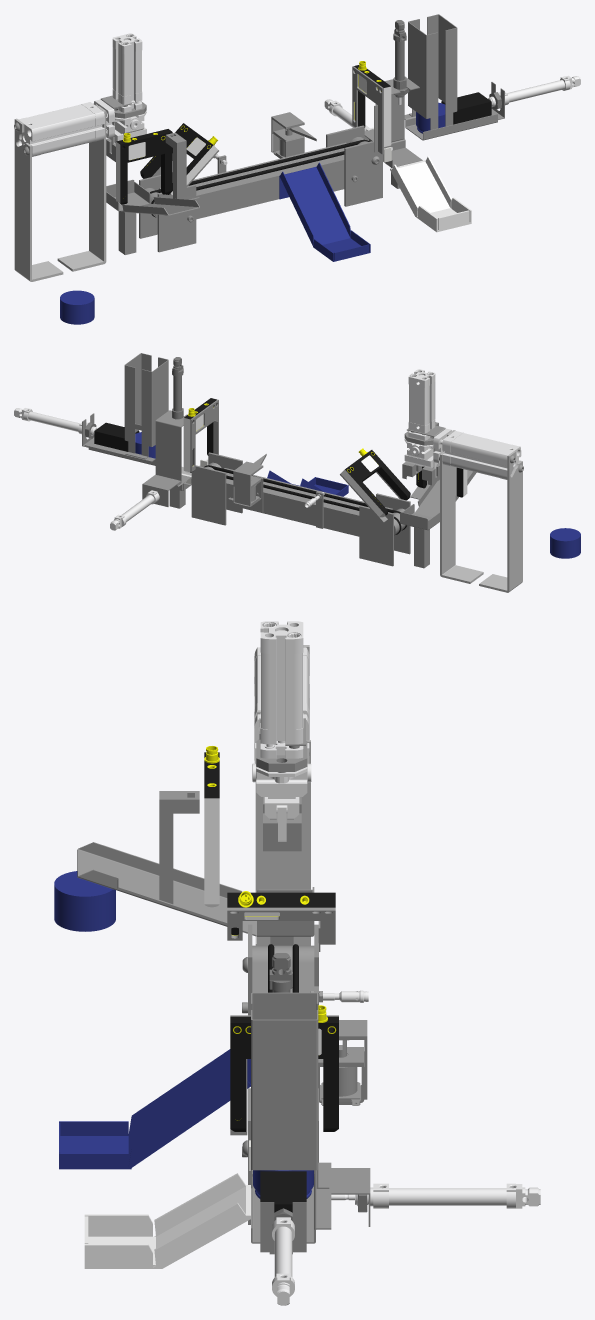
File: MEC-Lab Anlage v37.gltf
3 views of the same model, one above another, from view 1: azimuth 30°, elevation 25°; view 2: azimuth 150°, elevation 25°; view 3: azimuth 270°, elevation 25° (orthographic). The views are drawn at different scales.
Visible parts, largest first — view 1: Seitenteile:1, Magazin:1, Auswurf:1, Mittelstück:1, Rampe (1):1, 2_PART_537125_ADNGF_20_60_P_A____KS__in_ASM_554228_ADNGF_20_, Halter links:1, Halter links:2, 553563_SOOF-P-FL-ST-C50-P v3 (1):1, 553563_SOOF-P-FL-ST-C50-P v3 (2):1, 2_PART_537123_ADNGF_12_40_P_A____KS__in_ASM_554211_ADNGF_12_, 553563_SOOF-P-FL-ST-C50-P v3 (1):2 (+14 smaller); view 2: Seitenteile:1, Magazin:1, Mittelstück:1, 2_PART_537125_ADNGF_20_60_P_A____KS__in_ASM_554228_ADNGF_20_, Halter links:1, Halter links:2, 553563_SOOF-P-FL-ST-C50-P v3 (1):2, 553563_SOOF-P-FL-ST-C50-P v3 (1):1, Stempelhalter:1, 2_PART_537123_ADNGF_12_40_P_A____KS__in_ASM_554211_ADNGF_12_, 70155K571:1, 3_PART_19186_DSNU_10_50_P____A___00__0_KS__in_ASM_19186_DSNU (×2) (+12 smaller); view 3: Magazin:1, Auswurf:1, Rampe (1):1, Rampe:1, 2_PART_537123_ADNGF_12_40_P_A____KS__in_ASM_554211_ADNGF_12_, 3_PART_19186_DSNU_10_50_P____A___00__0_KS__in_ASM_19186_DSNU (×2), 553563_SOOF-P-FL-ST-C50-P v3 (1):1, 553563_SOOF-P-FL-ST-C50-P v3 (1):2, Halter links:2, MagazinRampe:1, Test Werkstück:1, 553563_SOOF-P-FL-ST-C50-P v3 (2):1 (+11 smaller).
Part boxes in pixels (box(x1,y1,x2,y2)): Seitenteile:1: box(139, 125, 382, 252); Magazin:1: box(408, 14, 457, 129); Auswurf:1: box(279, 162, 370, 261); Mittelstück:1: box(159, 142, 350, 219); Rampe (1):1: box(390, 156, 471, 232); 2_PART_537125_ADNGF_20_60_P_A____KS__in_ASM_554228_ADNGF_20_: box(18, 102, 104, 156); Halter links:1: box(14, 118, 63, 281); Halter links:2: box(57, 106, 106, 271); 553563_SOOF-P-FL-ST-C50-P v3 (1):1: box(352, 61, 391, 154); 553563_SOOF-P-FL-ST-C50-P v3 (2):1: box(116, 129, 172, 204); 2_PART_537123_ADNGF_12_40_P_A____KS__in_ASM_554211_ADNGF_12_: box(112, 33, 142, 104); 553563_SOOF-P-FL-ST-C50-P v3 (1):2: box(140, 123, 218, 194); Seitenteile:1: box(191, 452, 410, 566); Magazin:1: box(124, 353, 168, 459); Mittelstück:1: box(221, 468, 392, 536); 2_PART_537125_ADNGF_20_60_P_A____KS__in_ASM_554228_ADNGF_20_: box(442, 431, 521, 479); Halter links:1: box(479, 451, 522, 592); Halter links:2: box(440, 430, 483, 583); 553563_SOOF-P-FL-ST-C50-P v3 (1):2: box(340, 448, 410, 522); 553563_SOOF-P-FL-ST-C50-P v3 (1):1: box(183, 398, 218, 473); Stempelhalter:1: box(155, 410, 187, 485); 2_PART_537123_ADNGF_12_40_P_A____KS__in_ASM_554211_ADNGF_12_: box(408, 369, 435, 433); 70155K571:1: box(228, 454, 266, 512); 3_PART_19186_DSNU_10_50_P____A___00__0_KS__in_ASM_19186_DSNU (×2): box(14, 408, 159, 530); Magazin:1: box(251, 992, 329, 1188); Auswurf:1: box(59, 1049, 250, 1169); Rampe (1):1: box(84, 1173, 250, 1268); Rampe:1: box(77, 842, 256, 936); 2_PART_537123_ADNGF_12_40_P_A____KS__in_ASM_554211_ADNGF_12_: box(260, 621, 303, 744); 3_PART_19186_DSNU_10_50_P____A___00__0_KS__in_ASM_19186_DSNU (×2): box(272, 1183, 540, 1305); 553563_SOOF-P-FL-ST-C50-P v3 (1):1: box(230, 1005, 338, 1135); 553563_SOOF-P-FL-ST-C50-P v3 (1):2: box(227, 891, 335, 951); Halter links:2: box(257, 710, 310, 945); MagazinRampe:1: box(251, 1162, 331, 1252); Test Werkstück:1: box(54, 871, 115, 931); 553563_SOOF-P-FL-ST-C50-P v3 (2):1: box(204, 746, 219, 907).
Bounding box in the file's own units: 0.7659 × 0.2743 × 0.3141.
